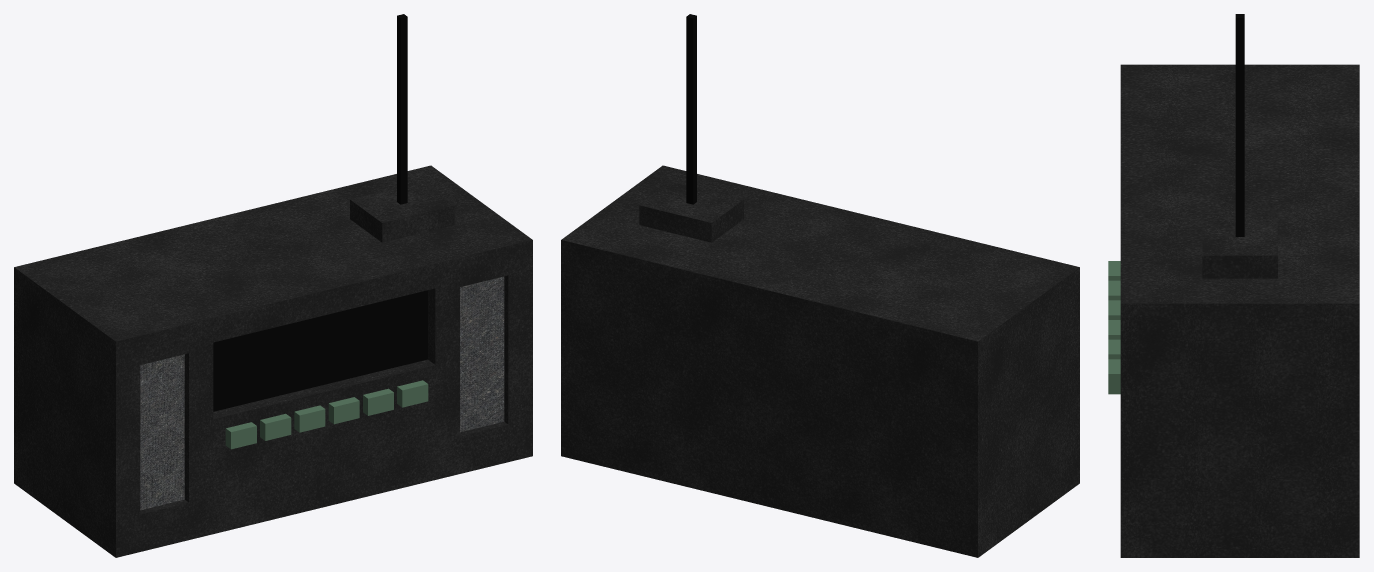
The model's file is radio.fbx.
3 views of the same model, side by side, from view 1: azimuth 30°, elevation 25°; view 2: azimuth 150°, elevation 25°; view 3: azimuth 270°, elevation 25° (orthographic). The views are drawn at different scales.
Parts seen in each view (by area): view 1: radio; view 2: radio; view 3: radio.
Boxes of the visible parts, box(x1,y1,x2,y2) form: radio: box(14, 14, 532, 557); radio: box(561, 14, 1079, 557); radio: box(1108, 14, 1359, 557).
Bounding box in the file's own units: 74.95 × 72.51 × 33.32.
